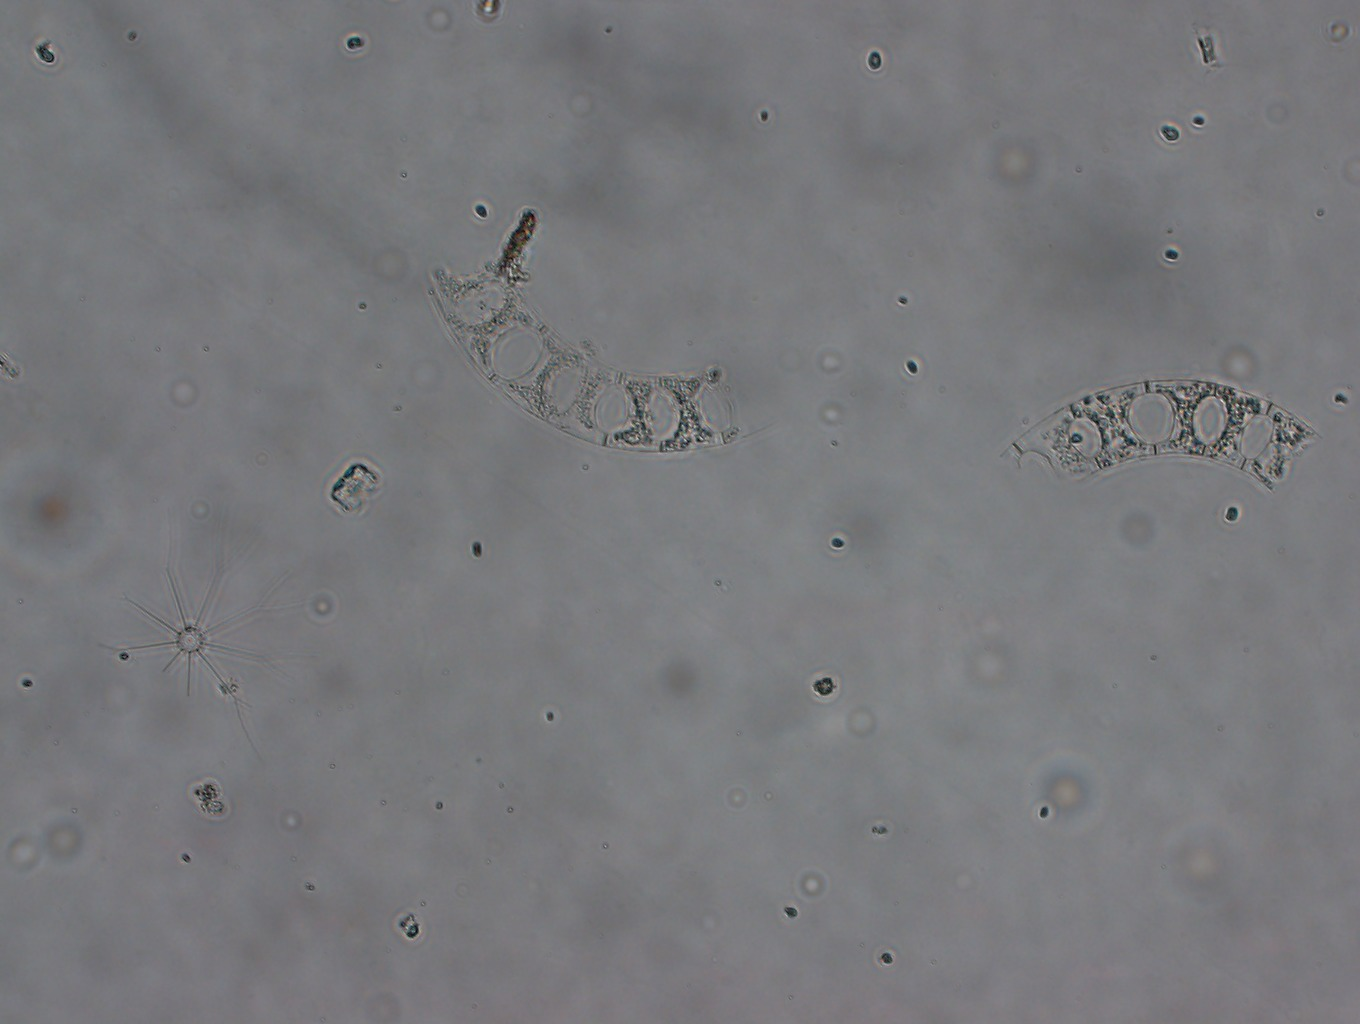bacteriastrum: (100, 516, 306, 773)
eucampia: (425, 264, 741, 452), (1008, 378, 1318, 492)
